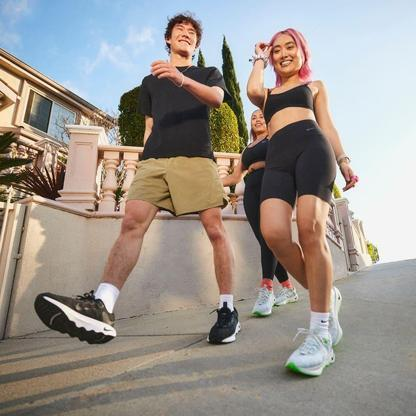person: (44, 10, 245, 353), (246, 28, 360, 384), (236, 111, 295, 325)
